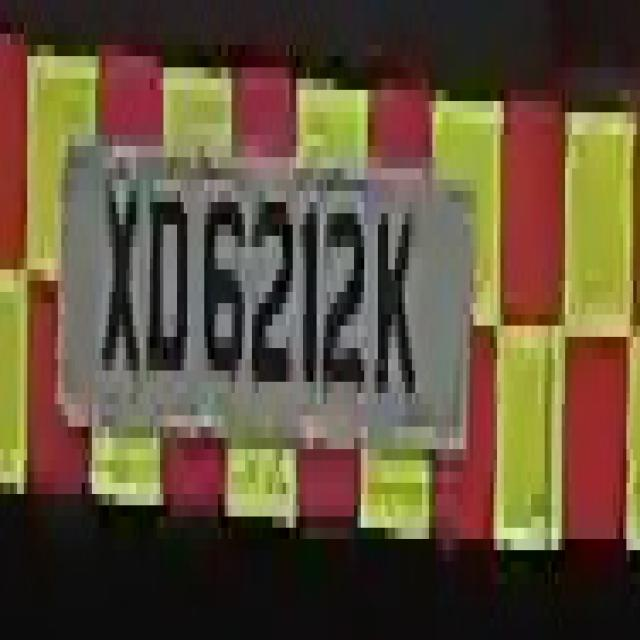1: (293, 146, 330, 415)
2: (235, 157, 293, 438), (310, 180, 368, 460)
6: (198, 112, 248, 416)
D: (133, 157, 187, 427)
K: (364, 180, 422, 449)
X: (88, 112, 150, 427)
